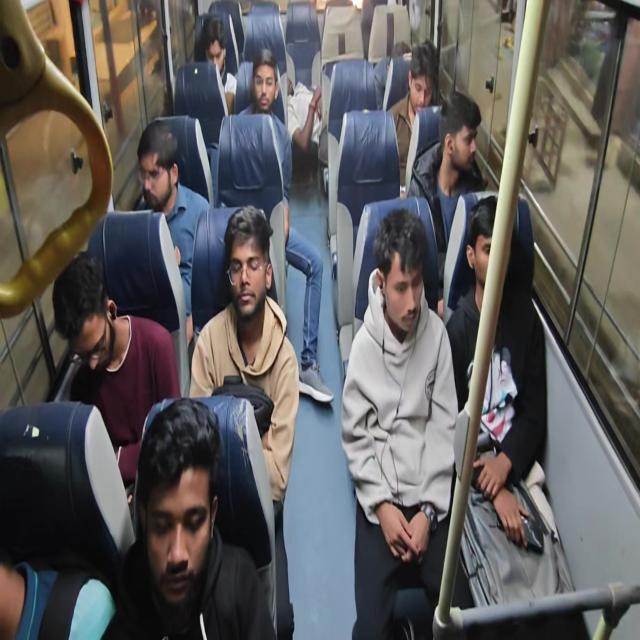person: (137, 398, 212, 594), (50, 249, 119, 385), (371, 214, 432, 341), (228, 210, 282, 326), (131, 120, 185, 225), (464, 200, 513, 304), (438, 82, 483, 176), (252, 46, 280, 117), (202, 14, 235, 73), (410, 39, 435, 110), (381, 27, 409, 69)
